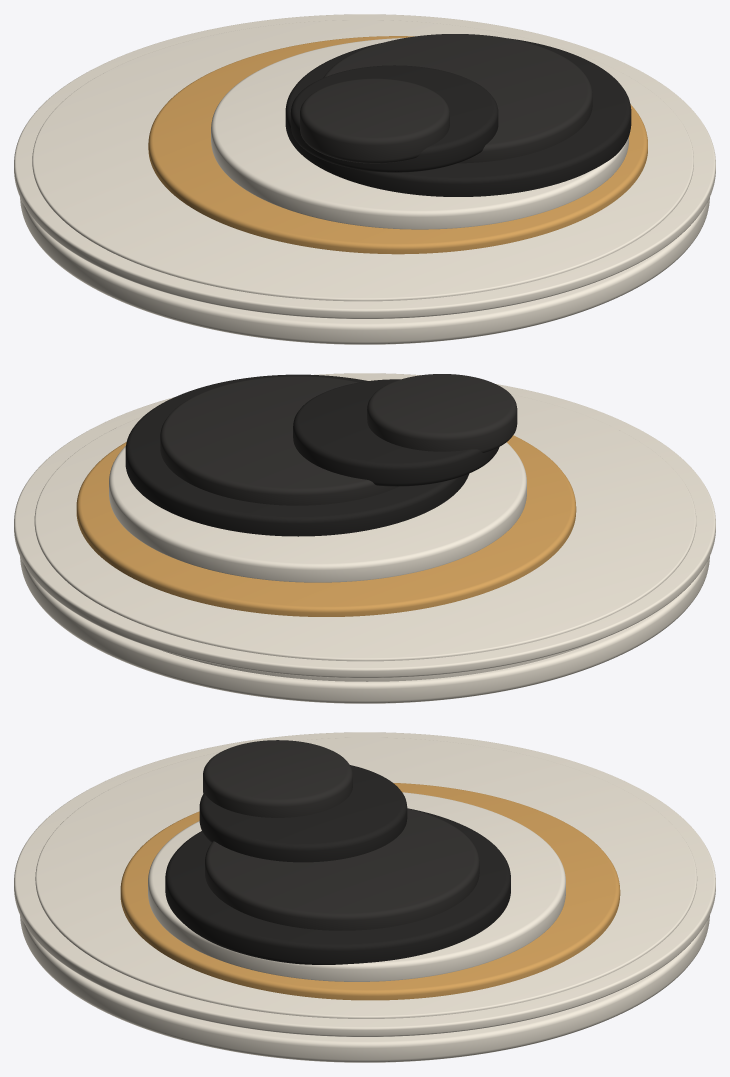
The model's file is eclipse_ec2_web.glb.
The picture shows the model from 3 angles, top to bottom: view 1: azimuth 30°, elevation 25°; view 2: azimuth 150°, elevation 25°; view 3: azimuth 270°, elevation 25°; orthographic projection.
Parts seen in each view (by area): view 1: 10_Lip_Inner_Cover, 09_Outer_Raised_Lip, 03_Ochre_Crescent, 04_Ivory_Spiral, 01_Outer_Base, 06_Charcoal_Inner_Disc, 05_Charcoal_Field, 08_Deep_Core, 07_Graphite_Arc_Disc; view 2: 10_Lip_Inner_Cover, 03_Ochre_Crescent, 04_Ivory_Spiral, 09_Outer_Raised_Lip, 06_Charcoal_Inner_Disc, 01_Outer_Base, 05_Charcoal_Field, 07_Graphite_Arc_Disc, 08_Deep_Core, 02_Recessed_Ivory_Field; view 3: 10_Lip_Inner_Cover, 09_Outer_Raised_Lip, 03_Ochre_Crescent, 06_Charcoal_Inner_Disc, 01_Outer_Base, 04_Ivory_Spiral, 05_Charcoal_Field, 07_Graphite_Arc_Disc, 08_Deep_Core.
Boxes of the visible parts, box(x1,y1,x2,y2) form: 10_Lip_Inner_Cover: box(32, 20, 693, 301); 09_Outer_Raised_Lip: box(14, 14, 715, 318); 03_Ochre_Crescent: box(148, 36, 647, 254); 04_Ivory_Spiral: box(211, 38, 628, 229); 01_Outer_Base: box(20, 197, 709, 344); 06_Charcoal_Inner_Disc: box(323, 34, 592, 163); 05_Charcoal_Field: box(285, 38, 631, 196); 08_Deep_Core: box(300, 78, 449, 163); 07_Graphite_Arc_Disc: box(290, 65, 498, 172); 10_Lip_Inner_Cover: box(34, 380, 696, 661); 03_Ochre_Crescent: box(76, 435, 576, 616); 04_Ivory_Spiral: box(109, 442, 526, 582); 09_Outer_Raised_Lip: box(14, 373, 715, 677); 06_Charcoal_Inner_Disc: box(160, 376, 399, 505); 01_Outer_Base: box(20, 556, 709, 703); 05_Charcoal_Field: box(125, 374, 468, 536); 07_Graphite_Arc_Disc: box(293, 379, 499, 486); 08_Deep_Core: box(367, 374, 517, 452); 02_Recessed_Ivory_Field: box(162, 639, 600, 681); 10_Lip_Inner_Cover: box(35, 737, 697, 1018); 09_Outer_Raised_Lip: box(14, 732, 715, 1036); 03_Ochre_Crescent: box(120, 783, 620, 1000); 06_Charcoal_Inner_Disc: box(205, 808, 479, 930); 01_Outer_Base: box(20, 915, 709, 1062); 04_Ivory_Spiral: box(148, 792, 565, 981); 05_Charcoal_Field: box(165, 808, 510, 964); 07_Graphite_Arc_Disc: box(199, 765, 407, 862); 08_Deep_Core: box(203, 740, 352, 817).
Bounding box in the file's own units: 10.48 × 2.18 × 10.48.
